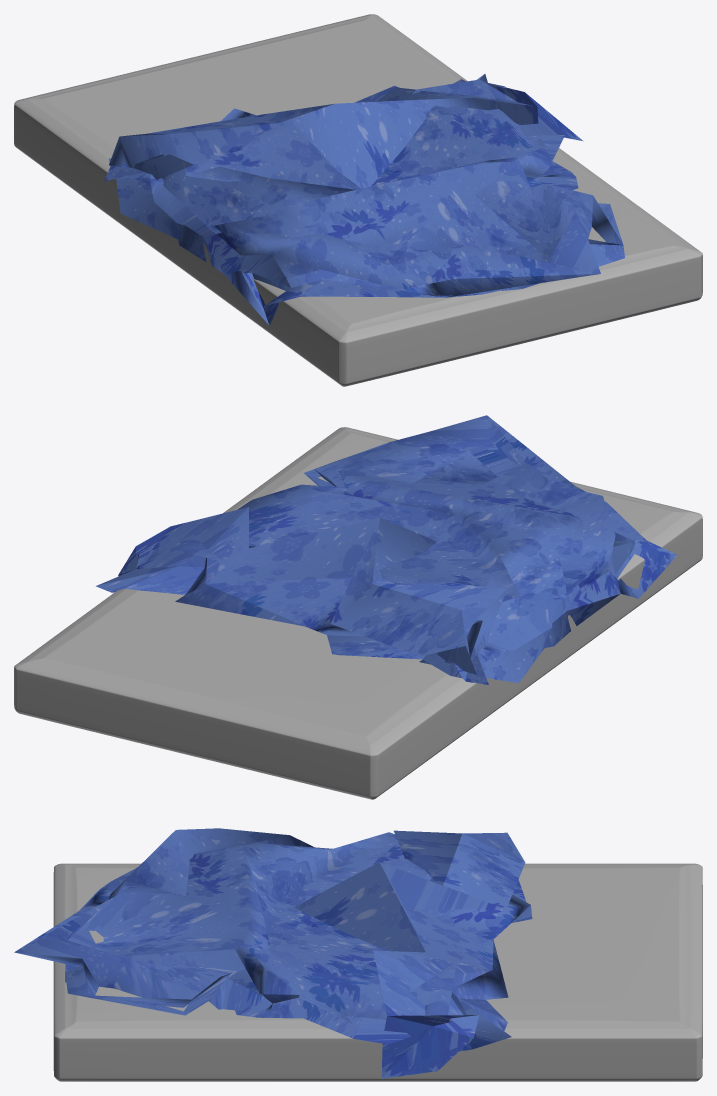
The model's file is brother_bed.fbx.
3 views of the same model, one above another, from view 1: azimuth 30°, elevation 25°; view 2: azimuth 150°, elevation 25°; view 3: azimuth 270°, elevation 25° (orthographic).
Parts seen in each view (by area): view 1: quilt_brother, pasted__pCube1; view 2: quilt_brother, pasted__pCube1; view 3: quilt_brother, pasted__pCube1.
Boxes of the visible parts, x1,y1,x2,y2 form: quilt_brother: (104,74,624,325); pasted__pCube1: (14,14,702,386); quilt_brother: (96,415,677,684); pasted__pCube1: (14,427,702,799); quilt_brother: (14,828,532,1078); pasted__pCube1: (53,863,702,1081).
Size of the model in its own units: 1.15 by 0.3207 by 1.61.
